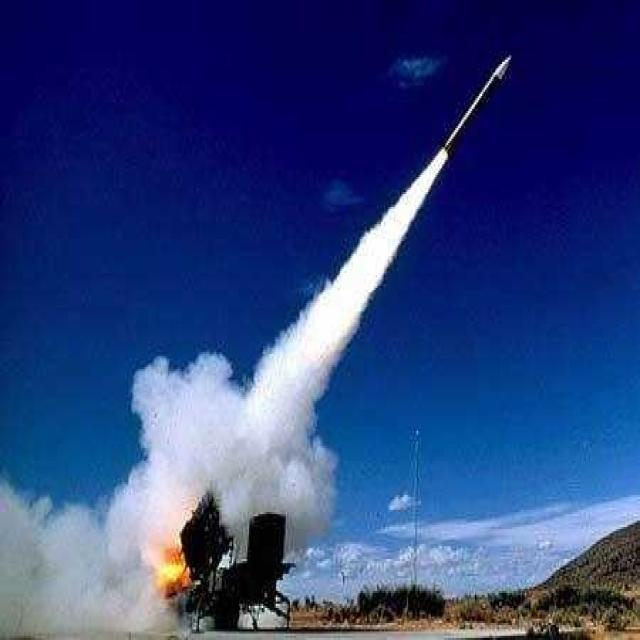missile: (443, 54, 514, 161)
